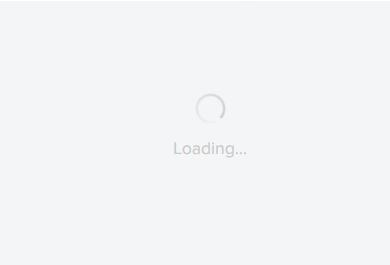0-Loading: (165, 87, 256, 165)
